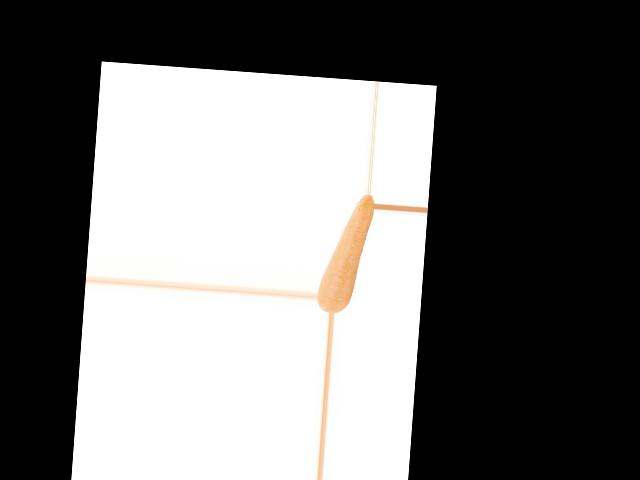carrot: (317, 193, 374, 316)
